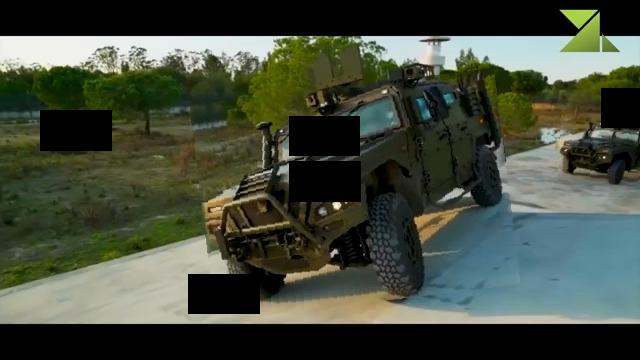MIL_HMMWV: (195, 77, 514, 313), (559, 114, 640, 185)
